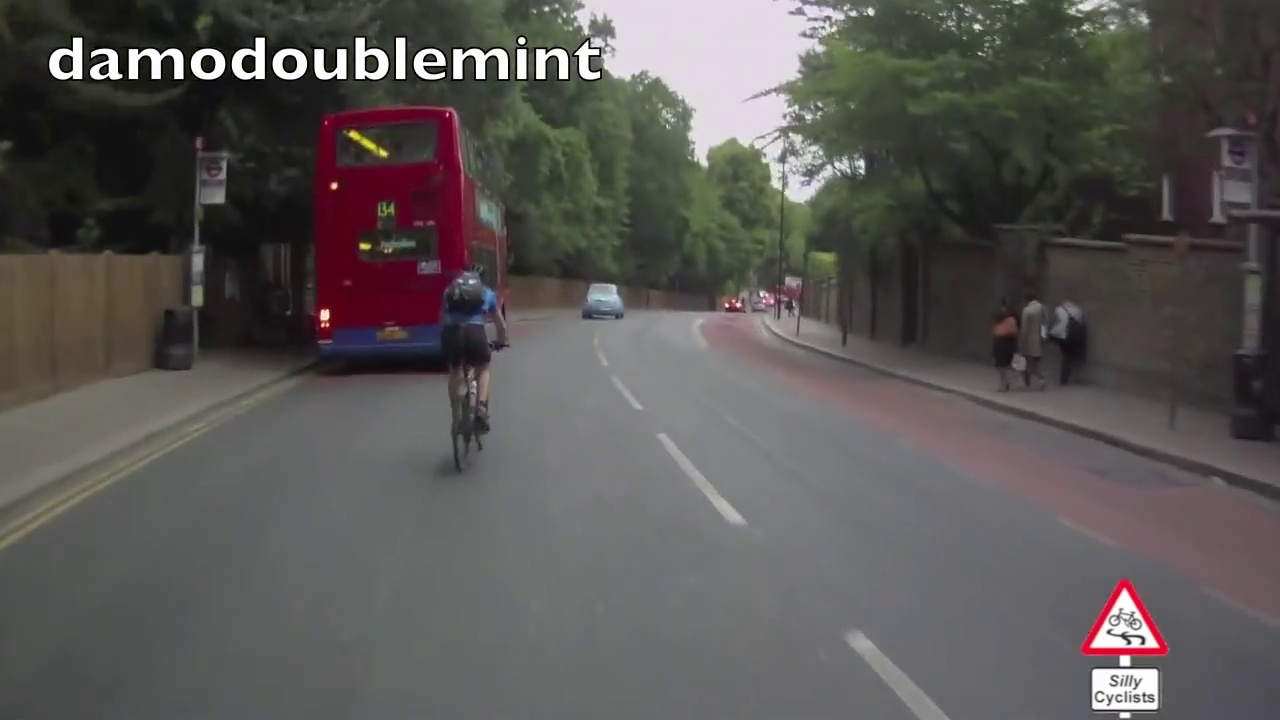cyclist_back: (434, 265, 504, 482)
